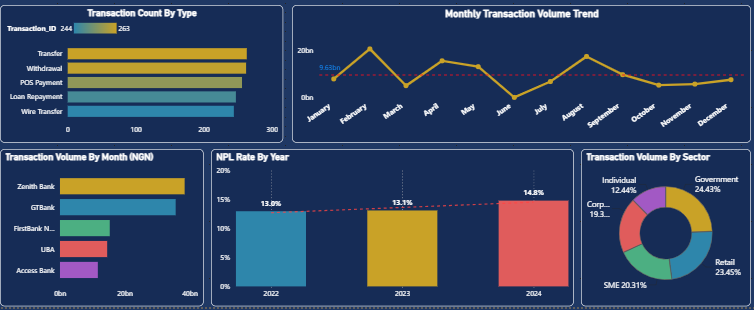

The dashboard page shown, as its layout file describes it:
{"tool":"powerbi","page":{"name":"Page 1","canvas":[1280,720],"ordinal":0},"visuals":[{"type":"textbox","box":[0,0,1033.1,57.1],"z":0},{"type":"textbox","box":[0,94.1,300.7,102.5],"z":1000},{"type":"textbox","box":[326.4,94.1,300.7,102.5],"z":2000},{"type":"textbox","box":[652.9,94.1,300.7,102.5],"z":3000},{"type":"textbox","box":[979.3,94.1,285.6,102.5],"z":4000},{"type":"lineChart","title":"Monthly Transaction Volume Trend","fields":{"Category":["cleaned_data.Date.Variation.Date Hierarchy.Year","cleaned_data.Date.Variation.Date Hierarchy.Quarter","cleaned_data.Date.Variation.Date Hierarchy.Month","cleaned_data.Date.Variation.Date Hierarchy.Day"],"Y":["Sum(cleaned_data.Amount_NGN)"]},"box":[492.2,211.7,772.7,231.8],"z":5000},{"type":"clusteredBarChart","title":"Transaction Volume By Month (NGN)","fields":{"Category":["cleaned_data.Bank"],"Y":["Sum(cleaned_data.Amount_NGN)"]},"box":[0,455.2,342.7,265.4],"z":6000},{"type":"donutChart","title":"Transaction Volume By Sector","fields":{"Category":["cleaned_data.Sector"],"Y":["Sum(cleaned_data.Amount_NGN)"]},"box":[979.3,455.2,285.6,265.4],"z":7000},{"type":"clusteredColumnChart","title":"NPL Rate By Year","fields":{"Y":["cleaned_data.NPL Rate"],"Category":["cleaned_data.Year"]},"box":[356.1,455.2,611.4,265.4],"z":8000},{"type":"clusteredBarChart","title":"Transaction Count By Type","fields":{"Category":["cleaned_data.Transaction_Type"],"Y":["CountNonNull(cleaned_data.Transaction_ID)"]},"box":[0,211.7,477.1,231.8],"z":9000},{"type":"slicer","title":"Bank","fields":{"Values":["cleaned_data.Bank"]},"box":[1024,0,240,80],"z":9001}]}

Visuals, with their boxes on the page's 1280x720 design canvas (x1, y1, x2, y2). These are canvas units, not pixel positions in the 754x310 screenshot, which may show the page scaled, cropped or inside an application window:
textbox: left=0, top=0, right=1033, bottom=57
textbox: left=0, top=94, right=301, bottom=197
textbox: left=326, top=94, right=627, bottom=197
textbox: left=653, top=94, right=954, bottom=197
textbox: left=979, top=94, right=1265, bottom=197
"Monthly Transaction Volume Trend" lineChart: left=492, top=212, right=1265, bottom=444
"Transaction Volume By Month (NGN)" clusteredBarChart: left=0, top=455, right=343, bottom=721
"Transaction Volume By Sector" donutChart: left=979, top=455, right=1265, bottom=721
"NPL Rate By Year" clusteredColumnChart: left=356, top=455, right=968, bottom=721
"Transaction Count By Type" clusteredBarChart: left=0, top=212, right=477, bottom=444
"Bank" slicer: left=1024, top=0, right=1264, bottom=80
